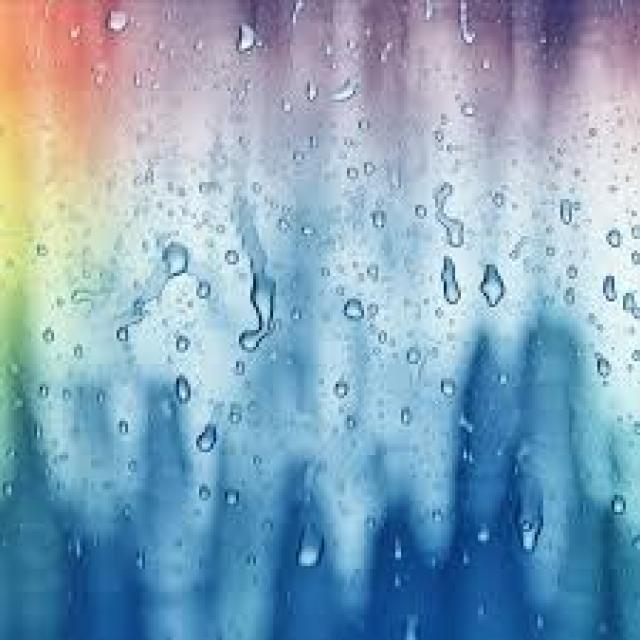raindrop: (238, 270, 298, 370), (422, 176, 478, 256), (468, 256, 518, 326), (147, 234, 199, 296), (510, 484, 550, 559), (288, 523, 334, 583), (433, 250, 471, 314), (96, 4, 142, 52), (227, 18, 266, 70), (198, 420, 230, 466), (169, 372, 202, 415)
